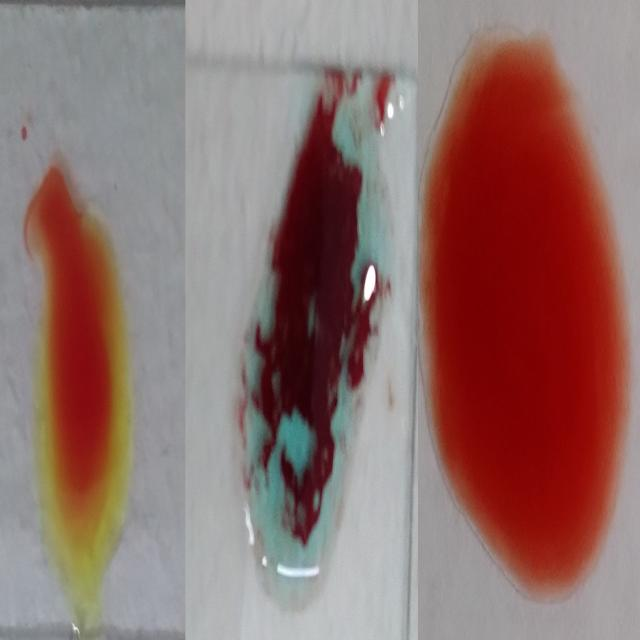A: (248, 59, 383, 574)
